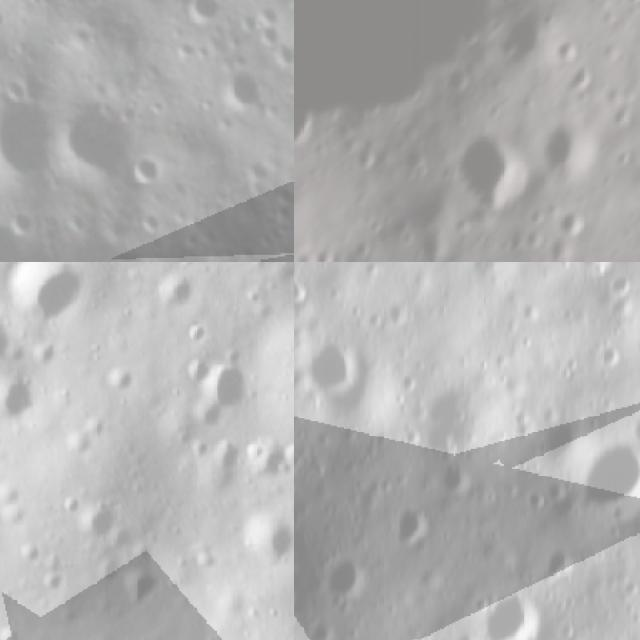crater: (294, 0, 546, 137), (43, 92, 149, 202), (448, 122, 536, 220), (0, 222, 189, 262), (0, 91, 67, 193), (575, 439, 640, 519), (10, 262, 93, 322), (538, 111, 602, 177), (474, 591, 548, 640), (211, 61, 270, 121), (234, 513, 294, 569), (306, 336, 352, 400), (118, 145, 174, 197), (206, 362, 258, 415), (314, 553, 368, 599), (249, 436, 294, 487), (73, 502, 125, 544), (139, 240, 238, 262), (156, 265, 202, 310), (121, 568, 168, 612), (390, 495, 427, 550), (556, 197, 598, 243), (0, 375, 36, 426), (0, 63, 37, 112), (0, 207, 32, 262), (174, 0, 225, 34), (0, 309, 25, 364), (189, 401, 225, 432), (182, 353, 216, 385), (596, 332, 618, 370), (606, 262, 625, 296), (629, 333, 640, 362)
